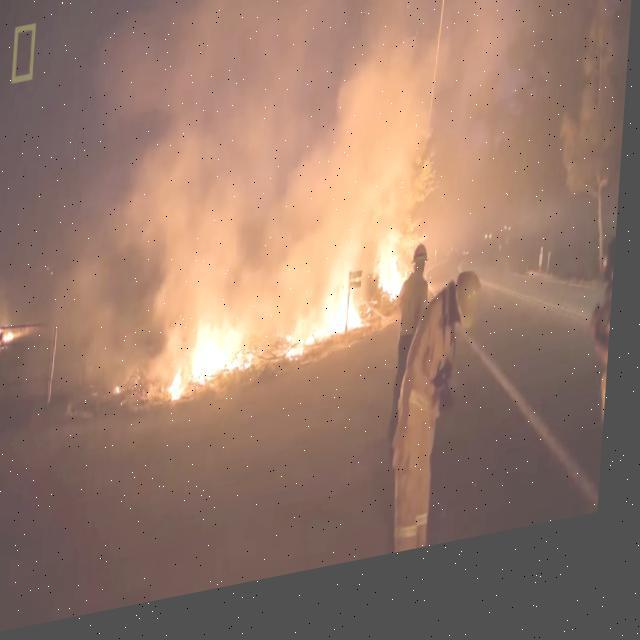Fire: (172, 320, 262, 410), (289, 283, 366, 379), (380, 263, 420, 317), (3, 326, 21, 347), (120, 387, 128, 401)
